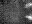person: (26, 13, 31, 21), (26, 1, 31, 5), (14, 1, 18, 5)
